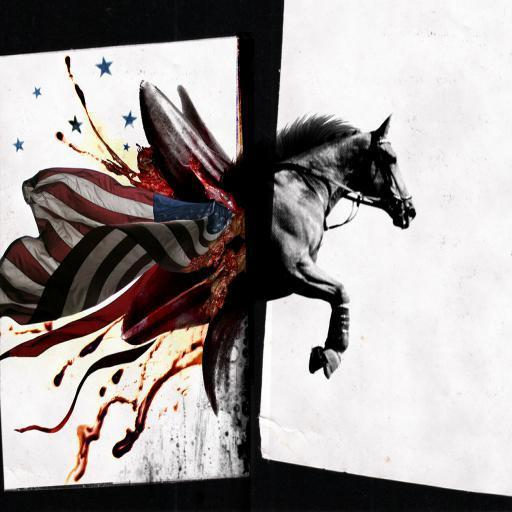horse: (63, 112, 417, 487), (274, 113, 414, 379)
